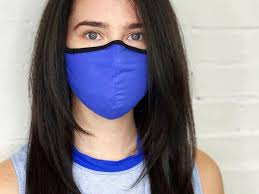with-mask: (49, 2, 174, 123)
